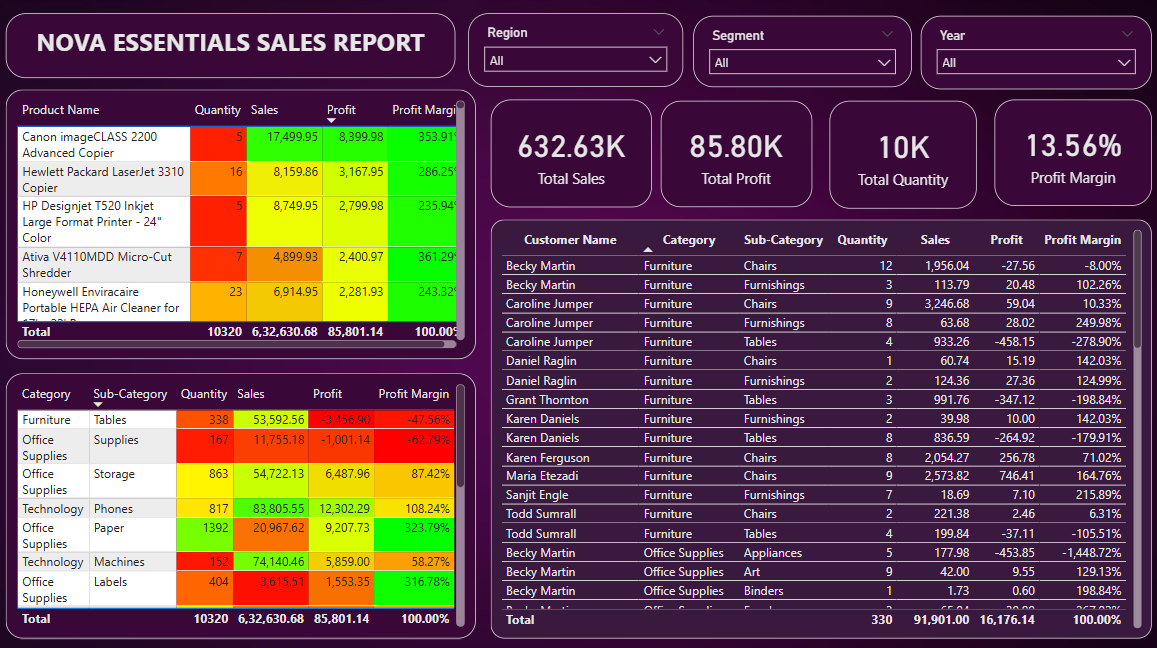

The page's visual inventory and layout, read from the dashboard file:
{"tool":"powerbi","page":{"name":"Sales Report","canvas":[1280,720],"ordinal":1},"visuals":[{"type":"tableEx","fields":{"Values":["Store.Category","Store.Sub-Category","Store.Quantity","Store.Sales","Store.Profit","Store.Profit Margin"]},"box":[9.6,413,516,290.9],"z":0},{"type":"tableEx","fields":{"Values":["Store.Product Name","Store.Quantity","Store.Sales","Store.Profit","Store.Profit Margin"]},"box":[9.6,101.5,516,296.4],"z":1000},{"type":"textbox","box":[9.6,17.8,494,71.4],"z":2000},{"type":"slicer","fields":{"Values":["Store.Year"]},"box":[1014.1,20.6,253.9,81],"z":3000},{"type":"slicer","fields":{"Values":["Store.Segment"]},"box":[764.3,20.6,240.1,78.2],"z":4000},{"type":"slicer","fields":{"Values":["Store.Region"]},"box":[517.3,17.8,236,81],"z":5000},{"type":"card","fields":{"Values":["Store.Total Sales"]},"box":[542,112.5,177,118],"z":6000},{"type":"card","fields":{"Values":["Store.Total Profit"]},"box":[728.6,113.9,166,116.6],"z":7000},{"type":"card","fields":{"Values":["Store.Profit Margin"]},"box":[1095,112.5,172.9,116.6],"z":8000},{"type":"card","fields":{"Values":["Store.Total Quantity"]},"box":[913.9,113.9,161.9,118],"z":9000},{"type":"tableEx","fields":{"Values":["Store.Customer Name","Store.Category","Store.Sub-Category","Store.Quantity","Store.Sales","Store.Profit","Store.Profit Margin"]},"box":[542,244.3,725.9,459.7],"z":10000}]}

Visuals, with their boxes in screenshot pixels (x1, y1, x2, y2), scaled from the page's 1280x720 canvas onto the 1157x648 screenshot:
tableEx - Store.Category x Store.Sub-Category: rect(9, 372, 475, 634)
tableEx - Store.Product Name x Store.Quantity: rect(9, 91, 475, 358)
textbox: rect(9, 16, 455, 80)
slicer - Store.Year: rect(917, 19, 1146, 91)
slicer - Store.Segment: rect(691, 19, 908, 89)
slicer - Store.Region: rect(468, 16, 681, 89)
card - Store.Total Sales: rect(490, 101, 650, 207)
card - Store.Total Profit: rect(659, 103, 809, 207)
card - Store.Profit Margin: rect(990, 101, 1146, 206)
card - Store.Total Quantity: rect(826, 103, 972, 209)
tableEx - Store.Customer Name x Store.Category: rect(490, 220, 1146, 634)
